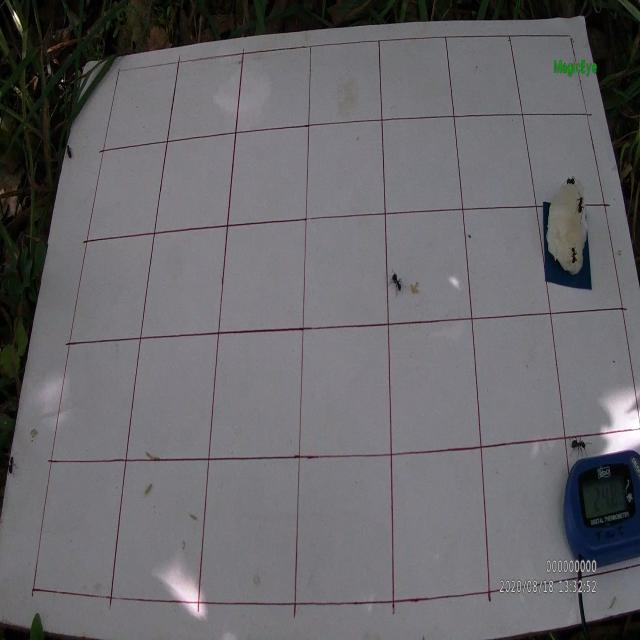Ant: (568, 434, 592, 459), (388, 269, 406, 295), (575, 192, 585, 224), (6, 452, 18, 476), (568, 242, 578, 265), (65, 143, 75, 162), (562, 175, 577, 186)
